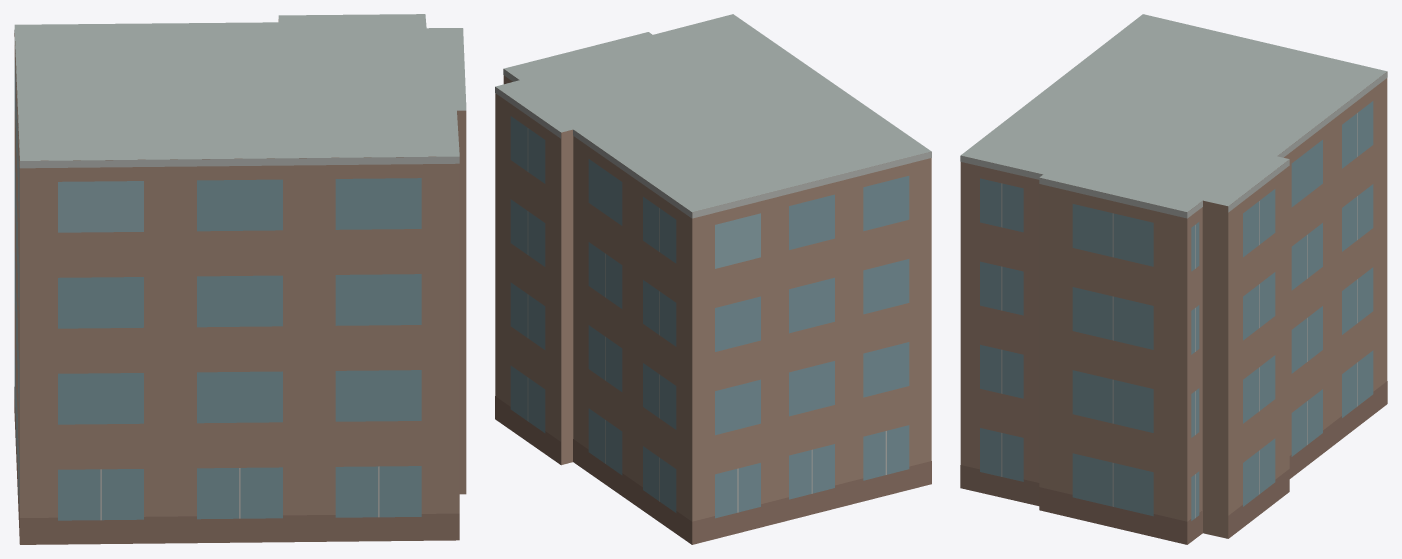
File: survey-upis-32657917.glb
The picture shows the model from 3 angles, left to right: view 1: azimuth 30°, elevation 25°; view 2: azimuth 150°, elevation 25°; view 3: azimuth 270°, elevation 25°; orthographic projection. The views are drawn at different scales.
Parts seen in each view (by area): view 1: survey-upis-32657917.tmp; view 2: survey-upis-32657917.tmp; view 3: survey-upis-32657917.tmp.
Boxes of the visible parts, box(x1,y1,x2,y2) form: survey-upis-32657917.tmp: box(14, 14, 466, 544); survey-upis-32657917.tmp: box(495, 14, 931, 544); survey-upis-32657917.tmp: box(960, 14, 1387, 544).
Size of the model in its own units: 16.37 by 12.8 by 14.9.
